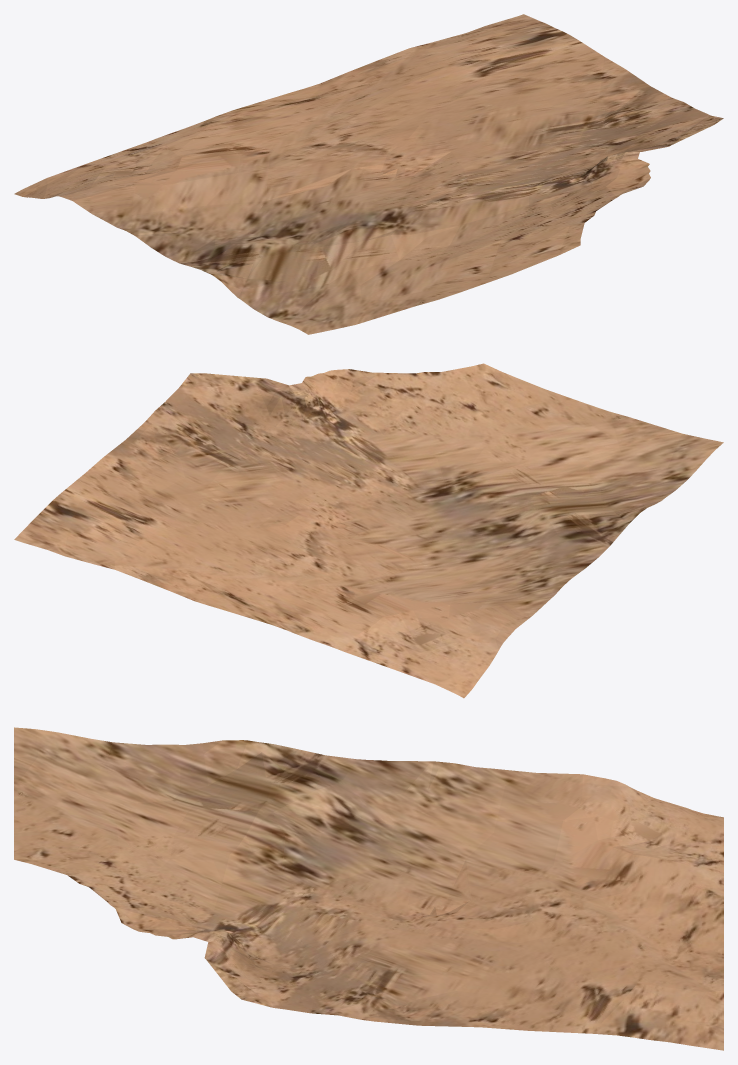
3 views of the same model, one above another, from view 1: azimuth 30°, elevation 25°; view 2: azimuth 150°, elevation 25°; view 3: azimuth 270°, elevation 25° (orthographic). The views are drawn at different scales.
Size of the model in its own units: 2.09 by 0.3825 by 2.09.
Materials: 2 (2 with a texture image).
